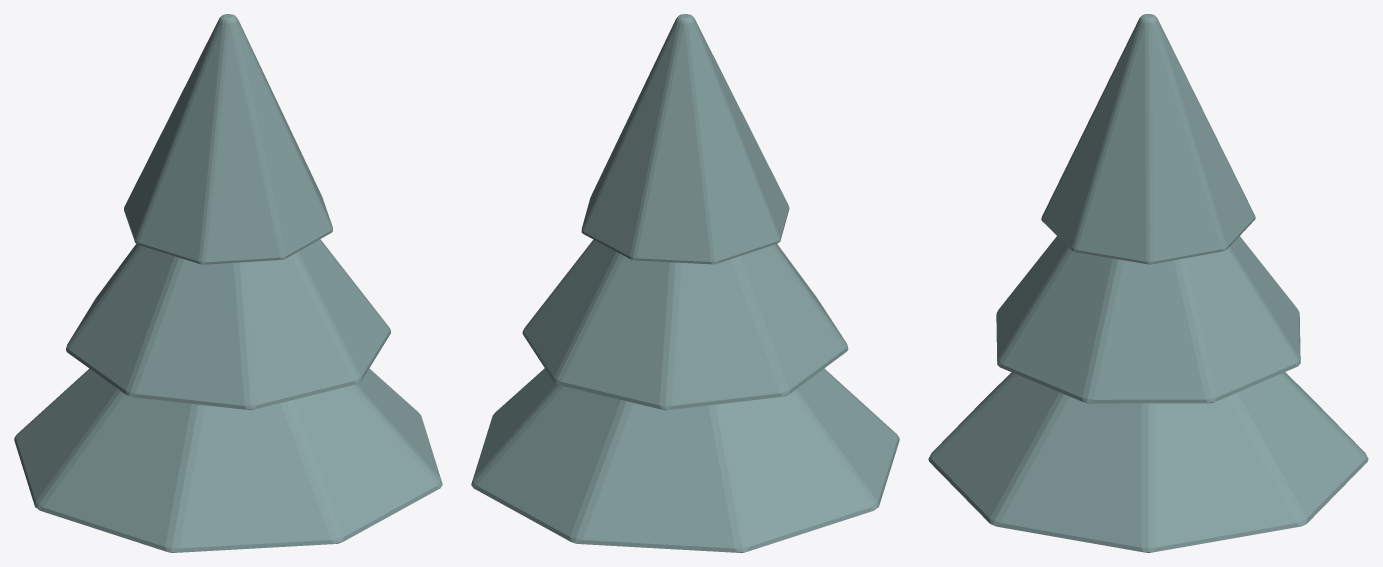
Rendered from pine_bare.glb.
3 renders of one model, left to right at view 1: azimuth 30°, elevation 25°; view 2: azimuth 150°, elevation 25°; view 3: azimuth 270°, elevation 25°, orthographic.
Visible parts, largest first — view 1: Surface_PineNeedle; view 2: Surface_PineNeedle; view 3: Surface_PineNeedle.
Boxes of the visible parts, bbox=[...] form: Surface_PineNeedle: bbox=[14, 14, 442, 552]; Surface_PineNeedle: bbox=[471, 14, 899, 552]; Surface_PineNeedle: bbox=[928, 14, 1368, 552].
Bounding box in the file's own units: 2.05 × 2.51 × 2.05.
